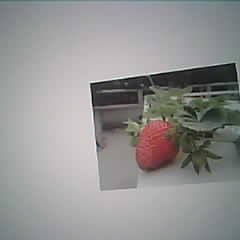straw-ripe: (136, 119, 178, 169)
